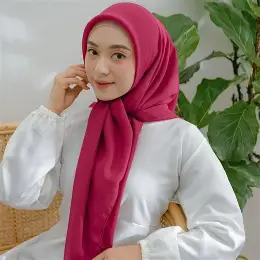kerudung_benar: (76, 3, 185, 122)
